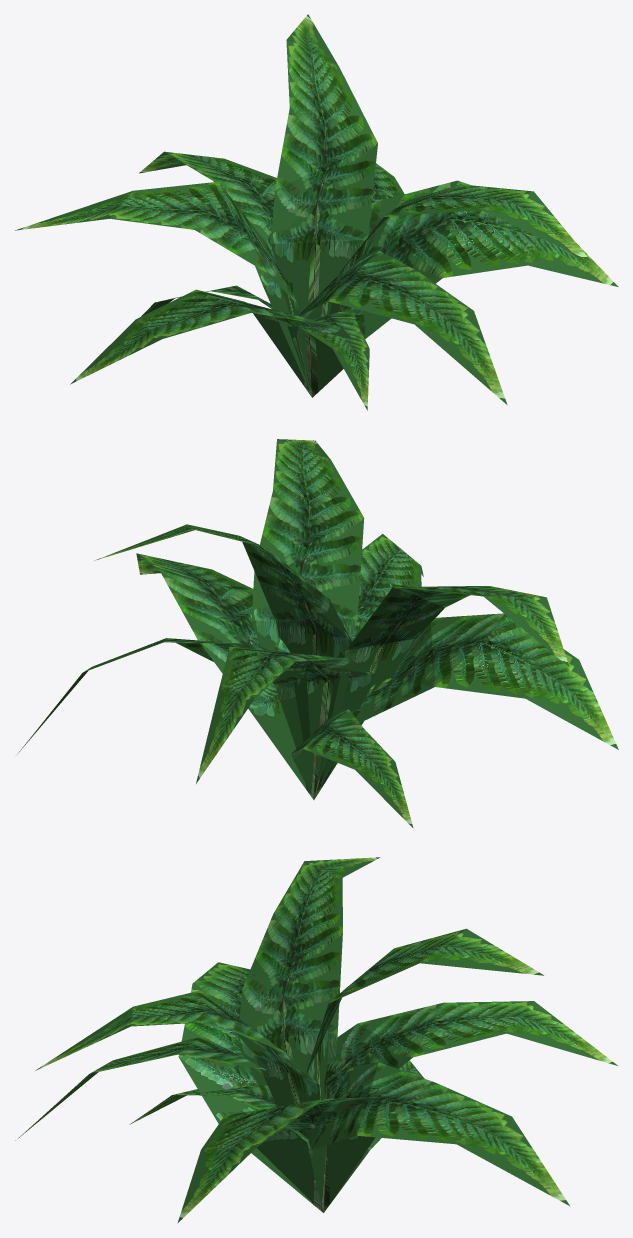
Rendered from Fern.fbx.
3 views of the same model, one above another, from view 1: azimuth 30°, elevation 25°; view 2: azimuth 150°, elevation 25°; view 3: azimuth 270°, elevation 25° (orthographic). The views are drawn at different scales.
Visible parts, largest first — view 1: FernMesh; view 2: FernMesh; view 3: FernMesh.
Part boxes in pixels (<box>): FernMesh: <box>15,14,618,410</box>; FernMesh: <box>17,439,618,828</box>; FernMesh: <box>15,857,617,1223</box>.
Size of the model in its own units: 5.23 by 2.93 by 5.24.
